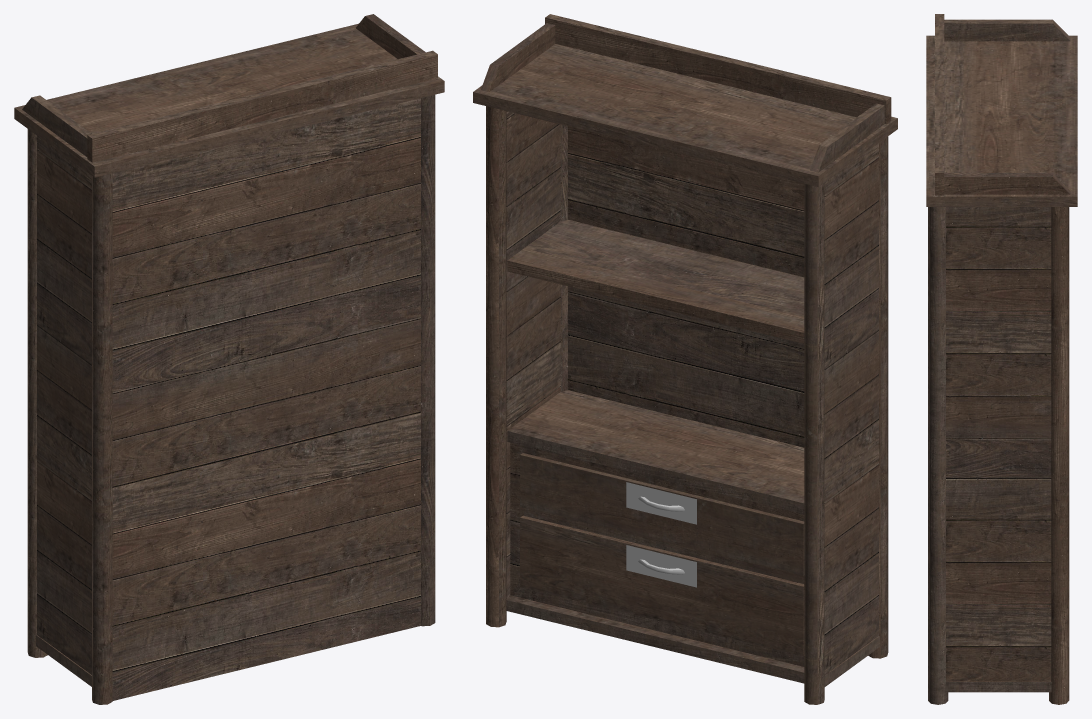
Rendered from mw_cupboard_01.FBX.
3 renders of one model, left to right at view 1: azimuth 30°, elevation 25°; view 2: azimuth 150°, elevation 25°; view 3: azimuth 270°, elevation 25°, orthographic. The views are drawn at different scales.
Parts seen in each view (by area): view 1: mw_cupboard_01; view 2: mw_cupboard_01; view 3: mw_cupboard_01.
Boxes of the visible parts, left/top/right/bottom form: mw_cupboard_01: left=14, top=14, right=444, bottom=704; mw_cupboard_01: left=473, top=14, right=897, bottom=704; mw_cupboard_01: left=926, top=14, right=1077, bottom=704.
Bounding box in the file's own units: 171 × 264 × 68.05.
